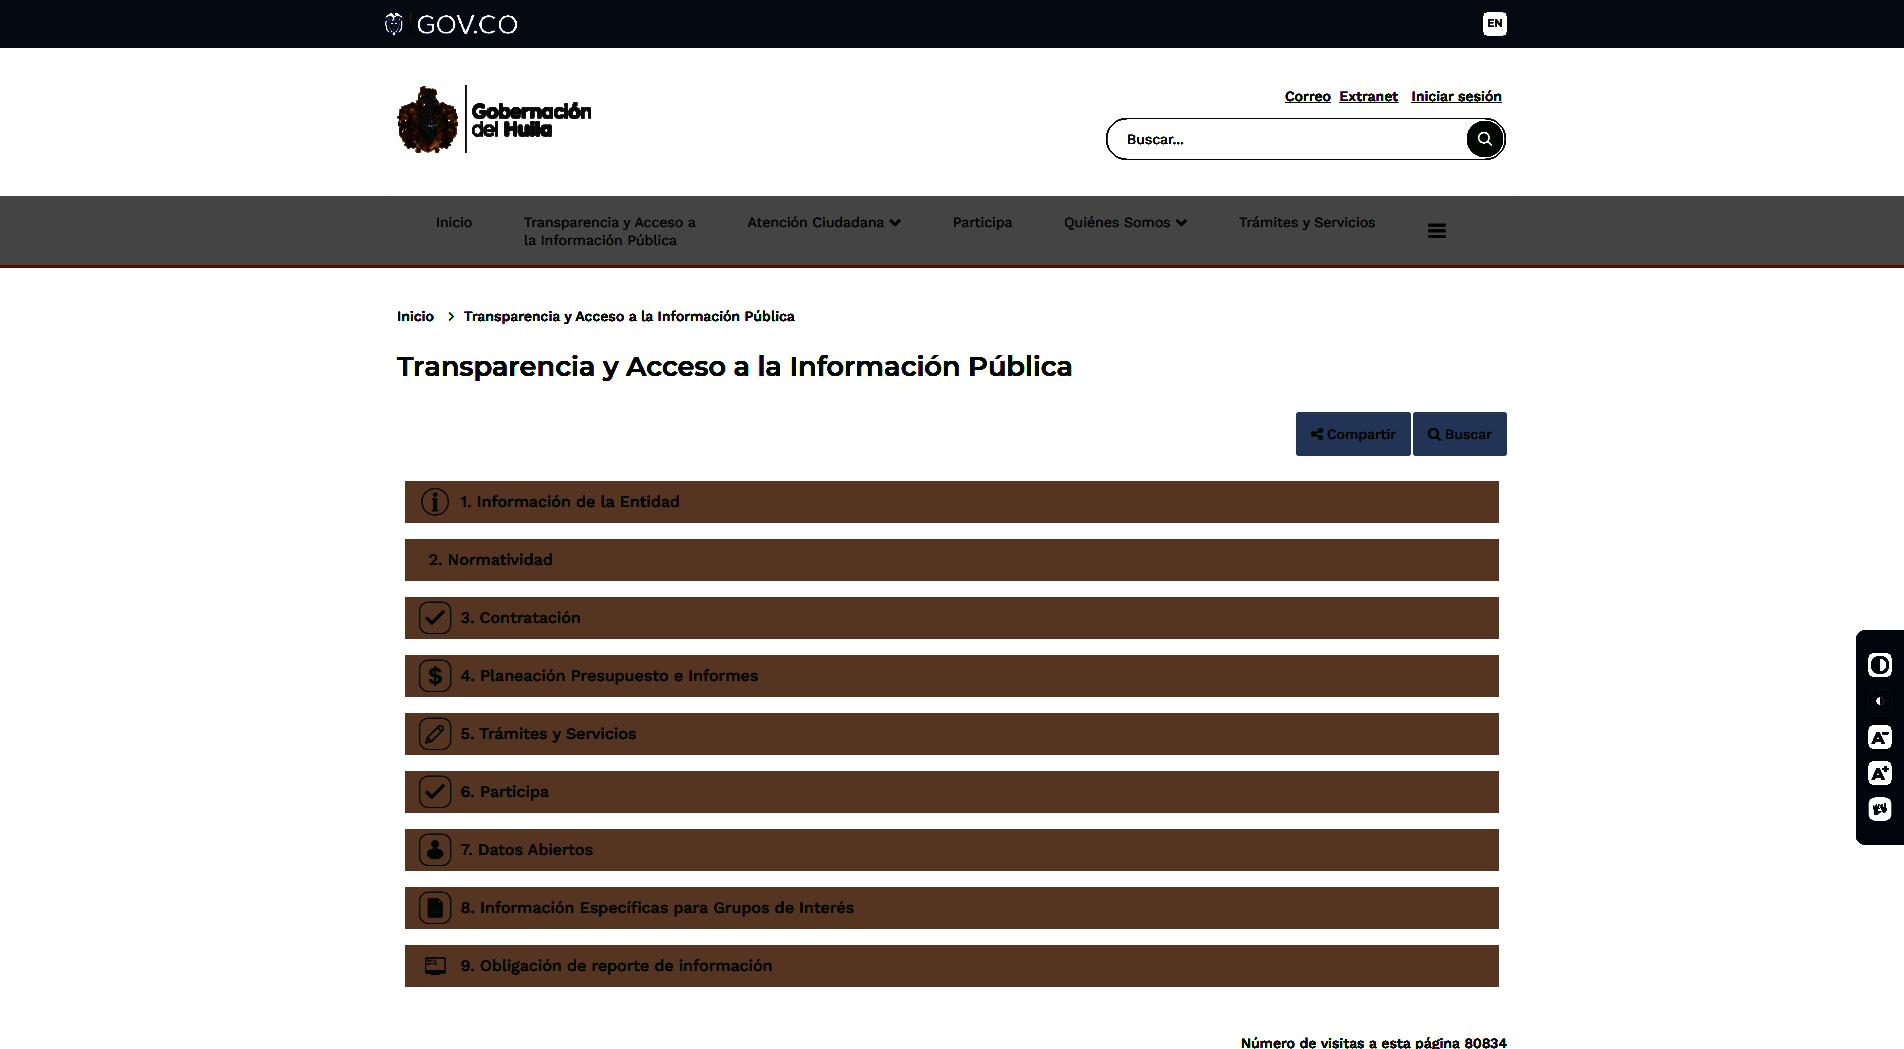barra accesibilidad: (1854, 627, 1904, 846)
barra govco: (379, 0, 1510, 51)
btn atencion ciudadano: (745, 213, 902, 232)
btn buscador: (1104, 114, 1509, 164), (1425, 423, 1444, 444)
btn entidad: (474, 490, 686, 515)
btn idiomas: (1482, 9, 1509, 39)
btn inicio: (433, 213, 474, 232)
btn inicio sesion: (1409, 87, 1505, 107)
btn normatividad: (445, 548, 564, 570)
btn participa: (476, 781, 557, 804), (952, 214, 1015, 233)
btn quienes somos: (1060, 212, 1190, 233)
btn tramites: (476, 721, 645, 744), (1234, 212, 1380, 233)
btn transpariencia: (393, 351, 1074, 386), (520, 211, 699, 253), (460, 309, 797, 326)
logogovco: (381, 7, 520, 42)
menu principal: (430, 192, 1453, 257)
